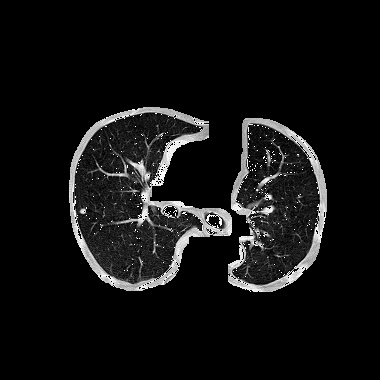PN: (79, 207, 87, 215)
